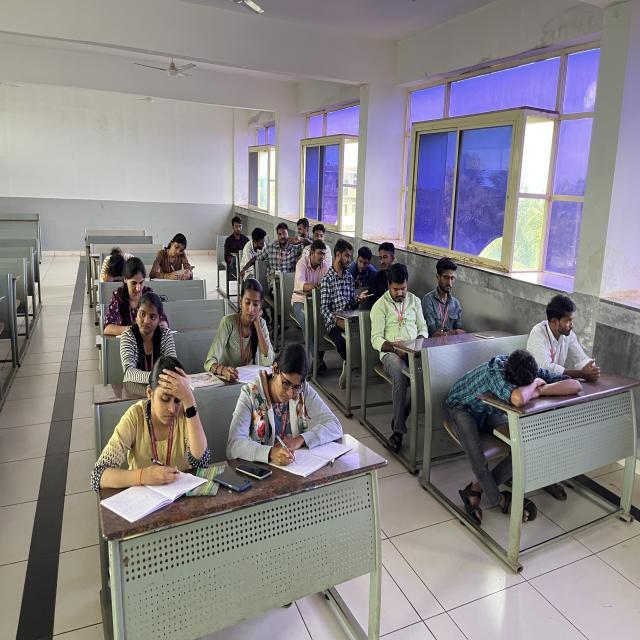Reading: (200, 272, 277, 382)
Sleeping: (96, 244, 141, 288)
Using Phone: (320, 231, 377, 324)
Writing: (87, 350, 213, 511), (228, 335, 354, 471), (146, 231, 198, 286)
